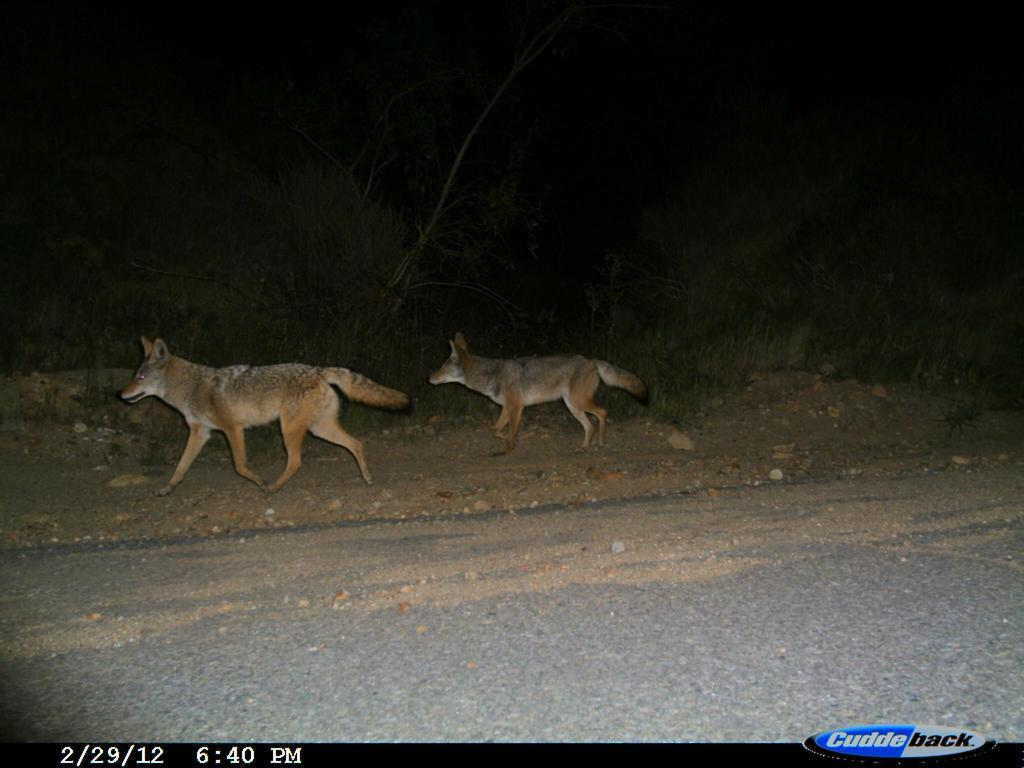coyote: (109, 327, 415, 501), (420, 326, 660, 465)
